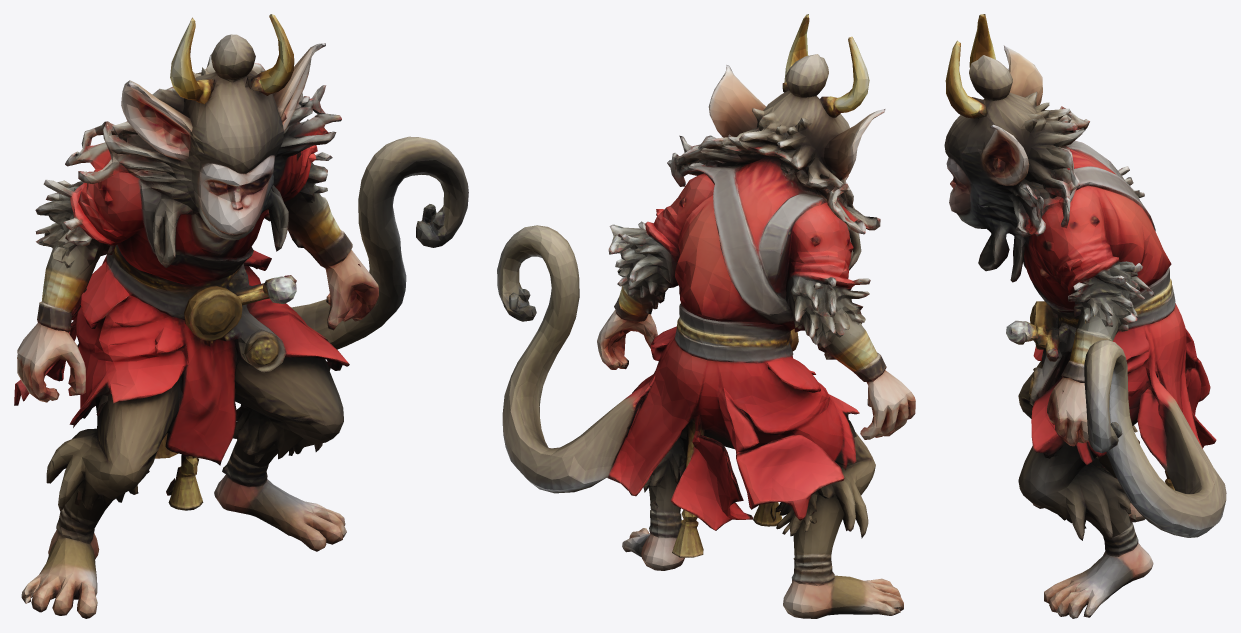
3 renders of one model, left to right at view 1: azimuth 30°, elevation 25°; view 2: azimuth 150°, elevation 25°; view 3: azimuth 270°, elevation 25°, orthographic. The views are drawn at different scales.
Visible parts, largest first — view 1: world; view 2: world; view 3: world.
Part boxes in pixels (x1,y1,x2,y2): world: (14,14,468,618); world: (497,14,915,618); world: (944,14,1226,618).
Bounding box in the file's own units: 0.7925 × 0.9992 × 0.4862.
Materials: 1 (1 with a texture image).
